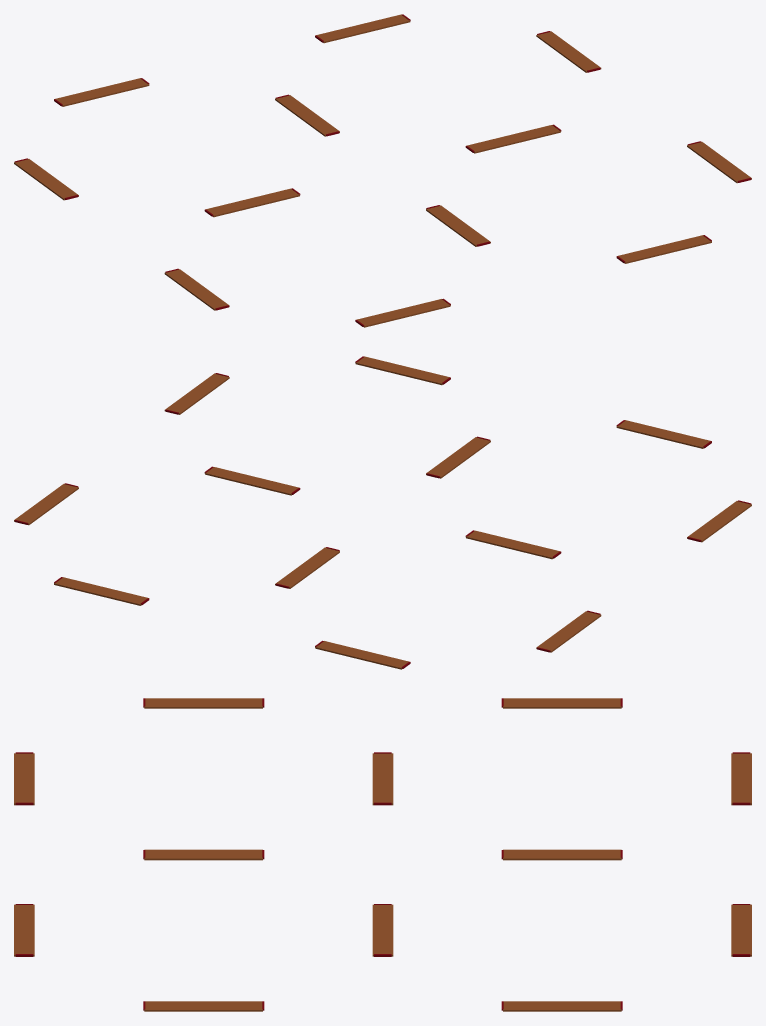
File: Bridge-HitBox.glb
3 renders of one model, top to bottom at view 1: azimuth 30°, elevation 25°; view 2: azimuth 150°, elevation 25°; view 3: azimuth 270°, elevation 25°, orthographic. The views are drawn at different scales.
Parts seen in each view (by area): view 1: Cube.767, Cube.460, Cube.032, Cube.453; view 2: Cube.767, Cube.460, Cube.032, Cube.453; view 3: Cube.460, Cube.767, Cube.453, Cube.032.
Boxes of the visible parts, <box> form: Cube.767: <box>54,14,711,327</box>; Cube.460: <box>14,31,751,310</box>; Cube.032: <box>205,125,560,217</box>; Cube.453: <box>275,95,490,246</box>; Cube.767: <box>54,356,711,669</box>; Cube.460: <box>14,373,751,652</box>; Cube.032: <box>205,467,560,559</box>; Cube.453: <box>275,437,490,588</box>; Cube.460: <box>144,698,621,1011</box>; Cube.767: <box>14,753,751,956</box>; Cube.453: <box>144,849,621,860</box>; Cube.032: <box>372,753,393,956</box>.
Size of what is drawn, in the model's own units: 101 by 0.3334 by 101.
